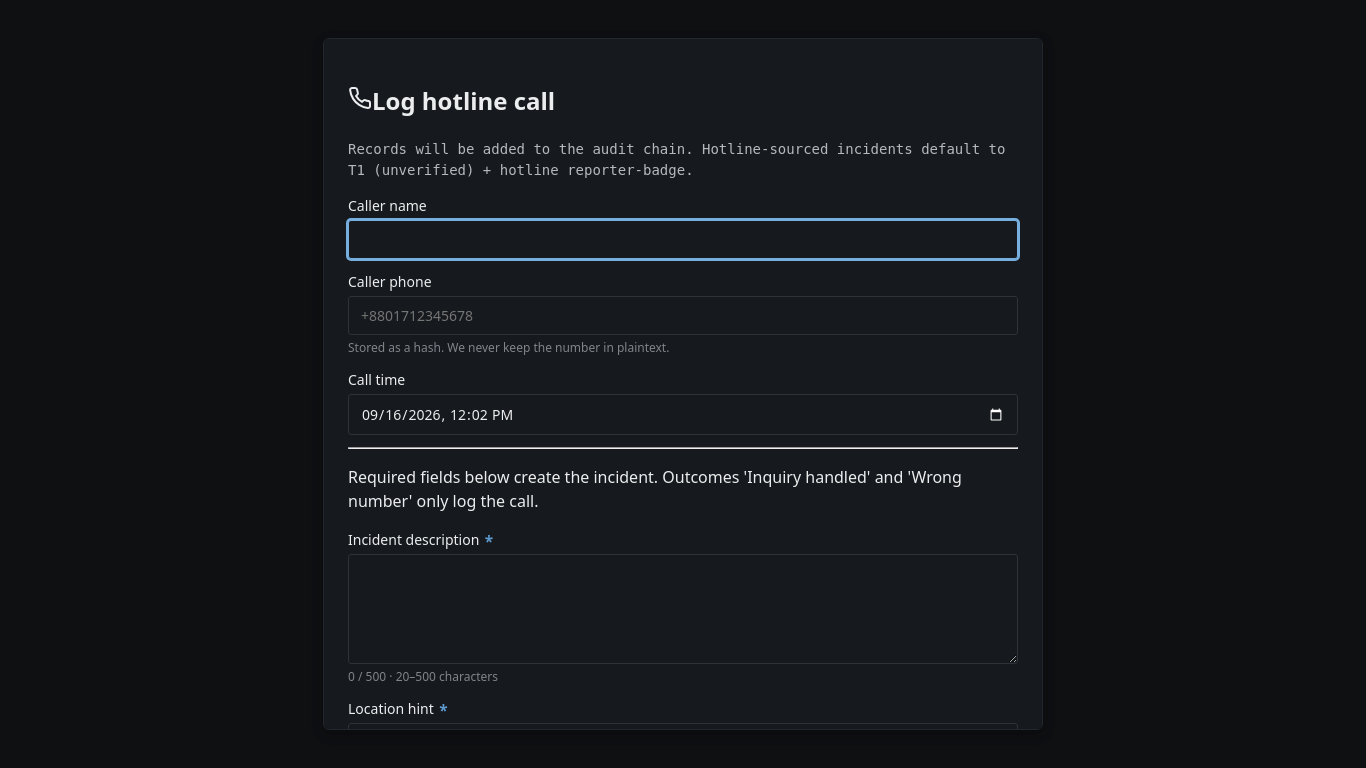
Test: WO-002 HotlineIntakeModal › description character counter tracks input
Type "twenty chars ok..." into the text box with test id "hotline-input-description".
click(683, 609); type("twenty chars ok...")  # box x1=348 y1=554 x2=1018 y2=664
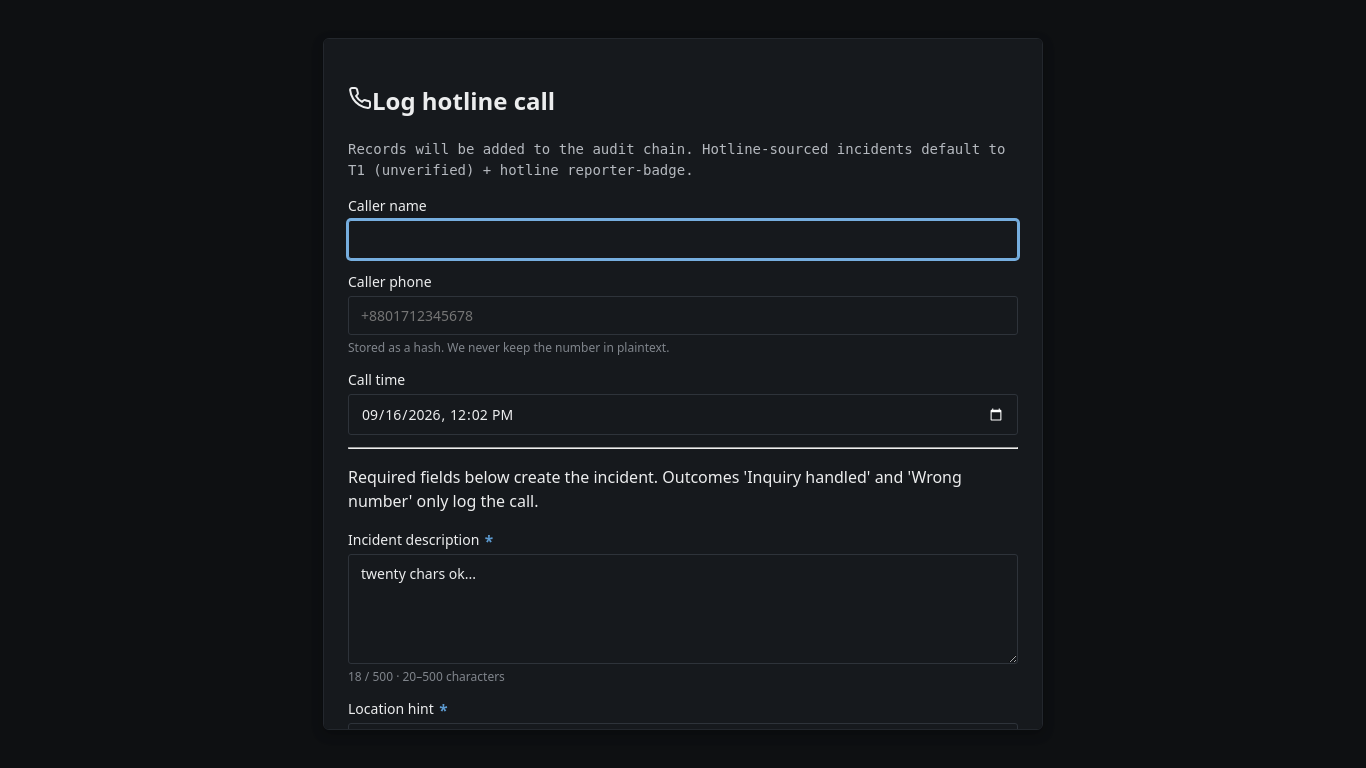
Check: the text with test id "hotline-description-count" reads "18", box x1=348 y1=668 x2=362 y2=685
